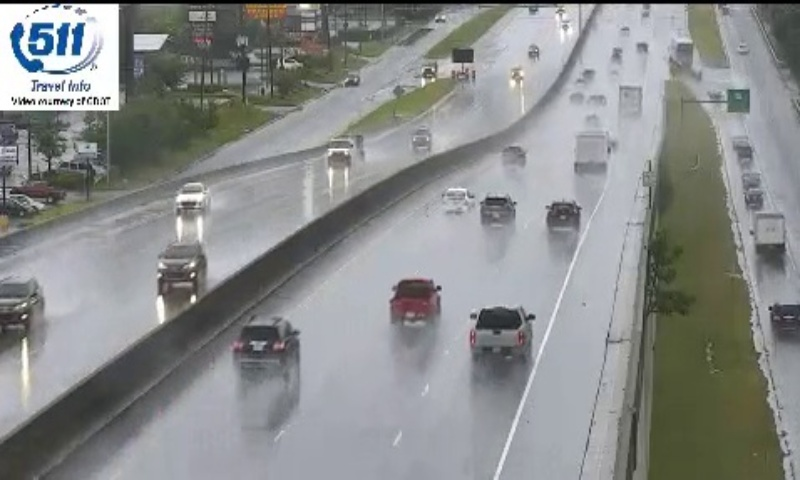car: (470, 306, 532, 360), (234, 318, 296, 367), (389, 278, 440, 320), (545, 200, 580, 230), (480, 192, 513, 222), (441, 186, 471, 215)
